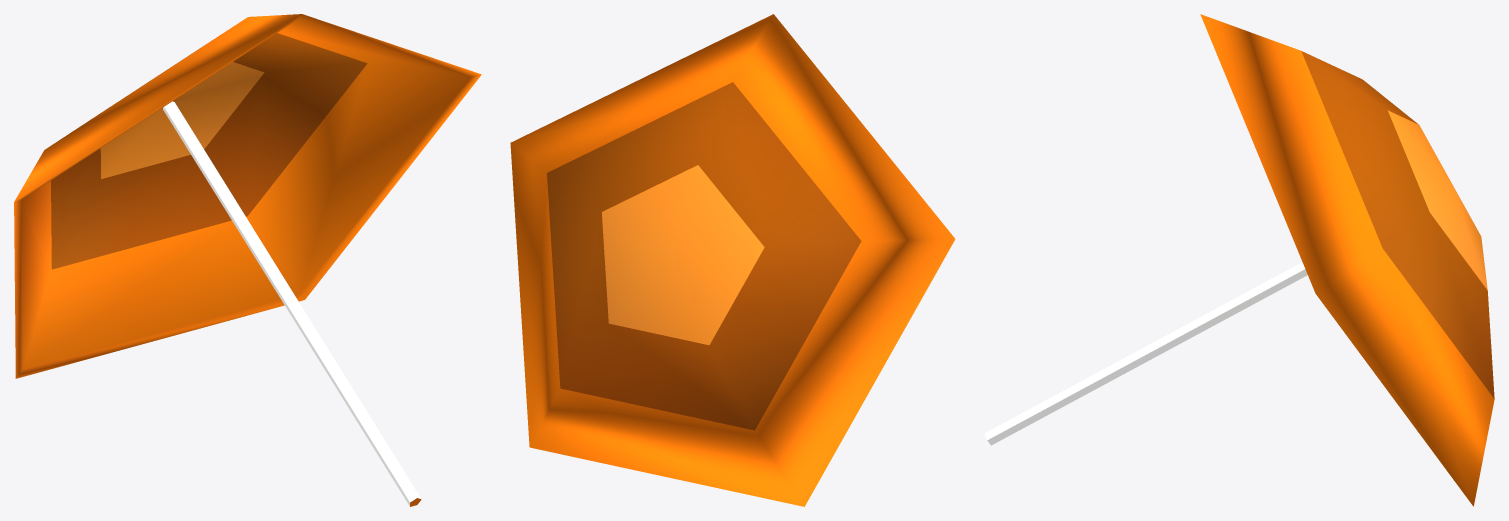
The model's file is BeachUmbrellaOnGroundOrange.glb.
3 renders of one model, left to right at view 1: azimuth 30°, elevation 25°; view 2: azimuth 150°, elevation 25°; view 3: azimuth 270°, elevation 25°, orthographic. The views are drawn at different scales.
Visible parts, largest first — view 1: BeachUmbrellaOnGroundOrange; view 2: BeachUmbrellaOnGroundOrange; view 3: BeachUmbrellaOnGroundOrange.
Part boxes in pixels (<box>): BeachUmbrellaOnGroundOrange: <box>14,14,481,506</box>; BeachUmbrellaOnGroundOrange: <box>510,14,955,506</box>; BeachUmbrellaOnGroundOrange: <box>984,14,1494,506</box>.
Size of the model in its own units: 2.42 by 2.01 by 2.18.
1 material, 1 textured.
